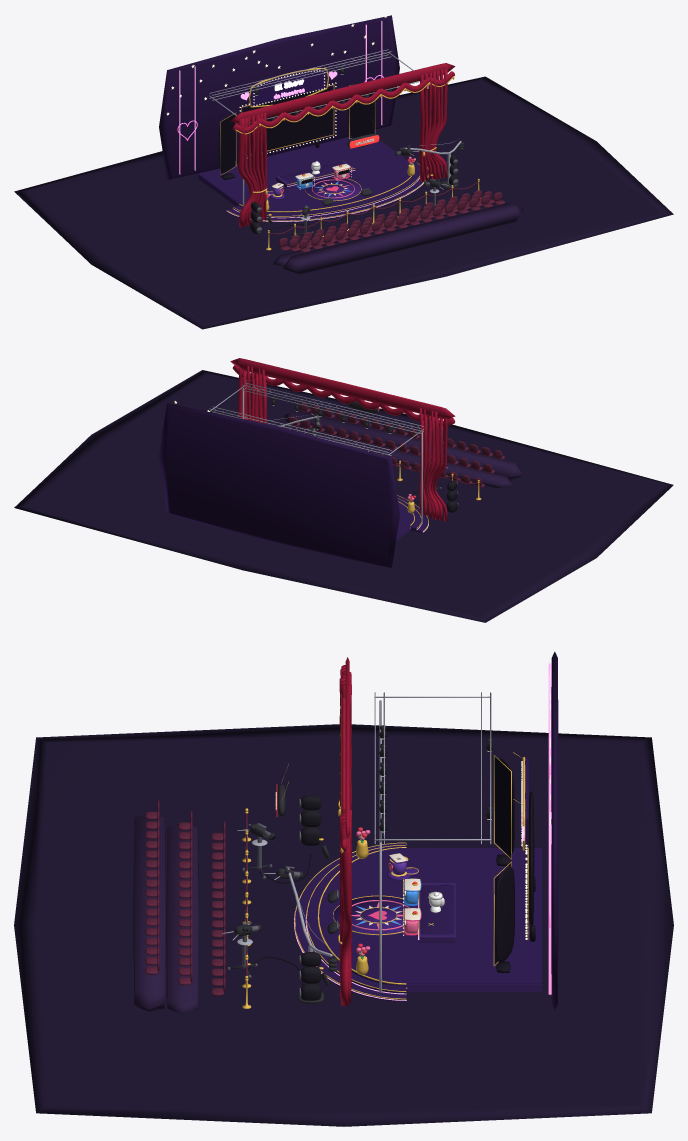
File: show_estudio.glb
3 views of the same model, one above another, from view 1: azimuth 30°, elevation 25°; view 2: azimuth 150°, elevation 25°; view 3: azimuth 270°, elevation 25° (orthographic). The views are drawn at different scales.
Parts seen in each view (by area): view 1: set piso estudio, set pared fondo, set telon, set escenario, set grada publico, set silla, set oro, pantalla_grande, set cercha, set letrero fondo, set led, set medallon (+5 smaller); view 2: set piso estudio, set pared fondo, set telon, set grada publico, set silla, set cercha, set escenario; view 3: set piso estudio, set escenario, set grada publico, set silla, set telon, set oro, set marco, set cercha, set pared fondo, set bafle, set escenario lado, set led (+4 smaller).
Part boxes in pixels (box(x1,y1,x2,y2)): set piso estudio: box(14, 76, 673, 329); set pared fondo: box(159, 15, 399, 180); set telon: box(230, 63, 455, 227); set escenario: box(198, 136, 428, 222); set grada publico: box(273, 203, 523, 274); set silla: box(269, 182, 504, 252); set oro: box(220, 66, 480, 250); pantalla_grande: box(243, 87, 332, 153); set cercha: box(209, 49, 461, 220); set letrero fondo: box(249, 67, 326, 106); set led: box(179, 21, 428, 221); set medallon: box(305, 177, 361, 200); set piso estudio: box(14, 370, 673, 622); set pared fondo: box(159, 403, 399, 567); set telon: box(230, 358, 455, 521); set grada publico: box(277, 410, 523, 488); set silla: box(289, 402, 504, 487); set cercha: box(209, 382, 447, 523); set escenario: box(397, 495, 428, 534); set piso estudio: box(14, 724, 673, 1126); set escenario: box(295, 843, 541, 1001); set grada publico: box(133, 815, 199, 1014); set silla: box(145, 800, 247, 995); set telon: box(339, 657, 351, 1006); set oro: box(242, 694, 528, 1008); set marco: box(403, 758, 535, 972); set cercha: box(222, 692, 491, 992); set pared fondo: box(551, 651, 558, 1009); set bafle: box(301, 795, 321, 1000); set escenario lado: box(322, 883, 541, 991); set led: box(294, 663, 551, 1000).
Bounding box in the file's own units: 26 × 5.8 × 18.
